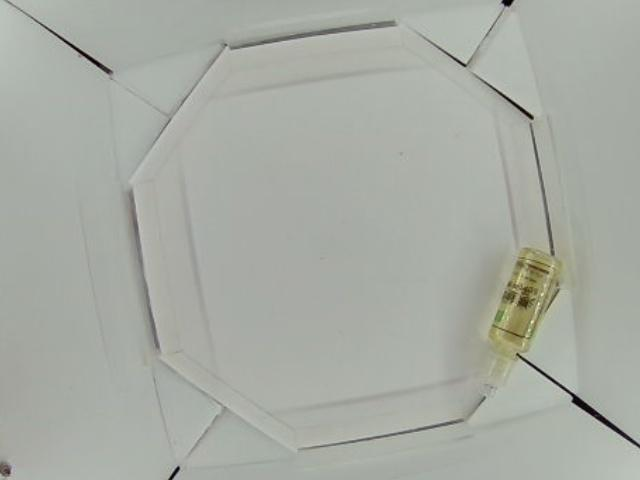Bottle: (475, 250, 563, 400)
